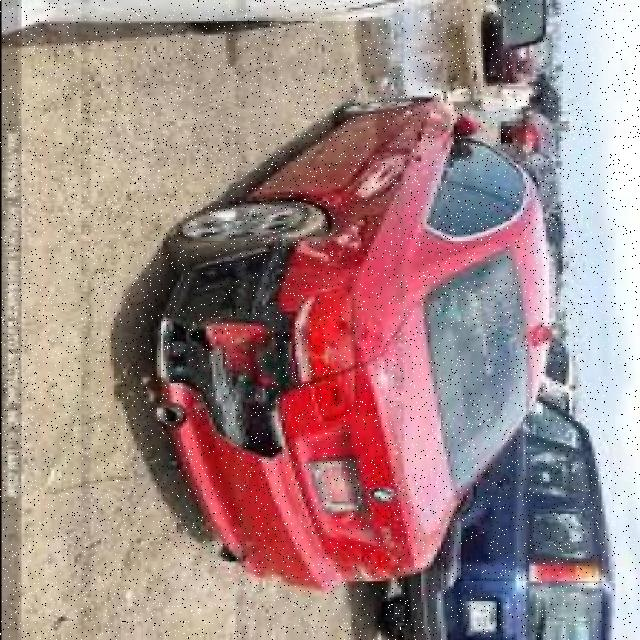damage: (159, 212, 373, 474)
